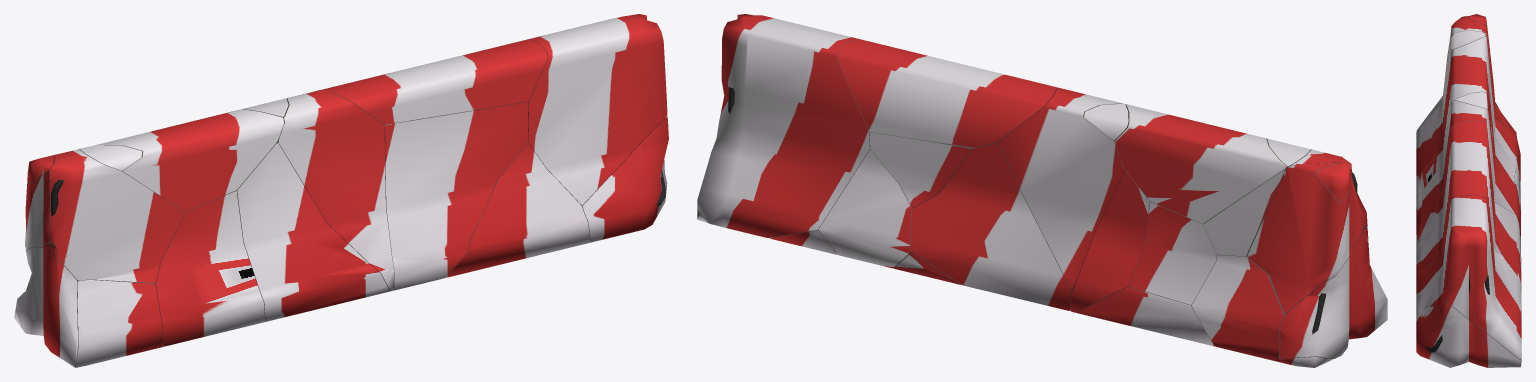
File: damaged_barrier_broken.fbx
The picture shows the model from 3 angles, left to right: view 1: azimuth 30°, elevation 25°; view 2: azimuth 150°, elevation 25°; view 3: azimuth 270°, elevation 25°; orthographic projection. The views are drawn at different scales.
Parts seen in each view (by area): view 1: LowPolyBarrierDamaged2_LowPolyBarrier1Plain.001_cell.003, LowPolyBarrierDamaged2_LowPolyBarrier1Plain.001_cell.021, LowPolyBarrierDamaged2_LowPolyBarrier1Plain.001_cell.018, LowPolyBarrierDamaged2_LowPolyBarrier1Plain.001_cell.007, LowPolyBarrierDamaged2_LowPolyBarrier1Plain.001_cell.019, LowPolyBarrierDamaged2_LowPolyBarrier1Plain.001_cell.014, LowPolyBarrierDamaged2_LowPolyBarrier1Plain.001_cell.032, LowPolyBarrierDamaged2_LowPolyBarrier1Plain.001_cell.024, LowPolyBarrierDamaged2_LowPolyBarrier1Plain.001_cell.004, LowPolyBarrierDamaged2_LowPolyBarrier1Plain.001_cell.002, LowPolyBarrierDamaged2_LowPolyBarrier1Plain.001_cell.029, LowPolyBarrierDamaged2_LowPolyBarrier1Plain.001_cell.023 (+2 smaller); view 2: LowPolyBarrierDamaged2_LowPolyBarrier1Plain.001_cell.003, LowPolyBarrierDamaged2_LowPolyBarrier1Plain.001_cell.026, LowPolyBarrierDamaged2_LowPolyBarrier1Plain.001_cell.032, LowPolyBarrierDamaged2_LowPolyBarrier1Plain.001_cell.007, LowPolyBarrierDamaged2_LowPolyBarrier1Plain.001_cell.024, LowPolyBarrierDamaged2_LowPolyBarrier1Plain.001_cell.016, LowPolyBarrierDamaged2_LowPolyBarrier1Plain.001_cell.023, LowPolyBarrierDamaged2_LowPolyBarrier1Plain.001_cell.004, LowPolyBarrierDamaged2_LowPolyBarrier1Plain.001_cell.002, LowPolyBarrierDamaged2_LowPolyBarrier1Plain.001_cell.018, LowPolyBarrierDamaged2_LowPolyBarrier1Plain.001_cell.014, LowPolyBarrierDamaged2_LowPolyBarrier1Plain.001_cell.021 (+7 smaller); view 3: LowPolyBarrierDamaged2_LowPolyBarrier1Plain.001_cell.003, LowPolyBarrierDamaged2_LowPolyBarrier1Plain.001_cell.029, LowPolyBarrierDamaged2_LowPolyBarrier1Plain.001_cell.032, LowPolyBarrierDamaged2_LowPolyBarrier1Plain.001_cell.024, LowPolyBarrierDamaged2_LowPolyBarrier1Plain.001_cell.007, LowPolyBarrierDamaged2_LowPolyBarrier1Plain.001_cell.018, LowPolyBarrierDamaged2_LowPolyBarrier1Plain.001_cell.004, LowPolyBarrierDamaged2_LowPolyBarrier1Plain.001_cell.014, LowPolyBarrierDamaged2_LowPolyBarrier1Plain.001_cell.021, LowPolyBarrierDamaged2_LowPolyBarrier1Plain.001_cell.002, LowPolyBarrierDamaged2_LowPolyBarrier1Plain.001_cell.026, LowPolyBarrierDamaged2_LowPolyBarrier1Plain.001_cell.019 (+7 smaller).
Boxes of the visible parts, x1,y1,x2,y2 form: LowPolyBarrierDamaged2_LowPolyBarrier1Plain.001_cell.003: (501,14,667,205); LowPolyBarrierDamaged2_LowPolyBarrier1Plain.001_cell.021: (384,102,528,290); LowPolyBarrierDamaged2_LowPolyBarrier1Plain.001_cell.018: (236,142,389,321); LowPolyBarrierDamaged2_LowPolyBarrier1Plain.001_cell.007: (276,89,394,291); LowPolyBarrierDamaged2_LowPolyBarrier1Plain.001_cell.019: (48,149,184,282); LowPolyBarrierDamaged2_LowPolyBarrier1Plain.001_cell.014: (155,190,265,346); LowPolyBarrierDamaged2_LowPolyBarrier1Plain.001_cell.032: (323,39,547,124); LowPolyBarrierDamaged2_LowPolyBarrier1Plain.001_cell.024: (95,109,283,211); LowPolyBarrierDamaged2_LowPolyBarrier1Plain.001_cell.004: (445,142,590,277); LowPolyBarrierDamaged2_LowPolyBarrier1Plain.001_cell.002: (75,279,163,367); LowPolyBarrierDamaged2_LowPolyBarrier1Plain.001_cell.029: (582,116,668,242); LowPolyBarrierDamaged2_LowPolyBarrier1Plain.001_cell.023: (15,244,77,367); LowPolyBarrierDamaged2_LowPolyBarrier1Plain.001_cell.003: (697,14,870,237); LowPolyBarrierDamaged2_LowPolyBarrier1Plain.001_cell.026: (910,142,1071,310); LowPolyBarrierDamaged2_LowPolyBarrier1Plain.001_cell.032: (836,38,1056,147); LowPolyBarrierDamaged2_LowPolyBarrier1Plain.001_cell.007: (997,87,1124,289); LowPolyBarrierDamaged2_LowPolyBarrier1Plain.001_cell.024: (1114,104,1287,223); LowPolyBarrierDamaged2_LowPolyBarrier1Plain.001_cell.016: (1247,162,1363,313); LowPolyBarrierDamaged2_LowPolyBarrier1Plain.001_cell.023: (1279,232,1387,359); LowPolyBarrierDamaged2_LowPolyBarrier1Plain.001_cell.004: (818,149,912,268); LowPolyBarrierDamaged2_LowPolyBarrier1Plain.001_cell.002: (1192,255,1387,361); LowPolyBarrierDamaged2_LowPolyBarrier1Plain.001_cell.018: (1070,170,1150,312); LowPolyBarrierDamaged2_LowPolyBarrier1Plain.001_cell.014: (1129,201,1218,305); LowPolyBarrierDamaged2_LowPolyBarrier1Plain.001_cell.021: (869,132,977,208); LowPolyBarrierDamaged2_LowPolyBarrier1Plain.001_cell.003: (1425,195,1521,361); LowPolyBarrierDamaged2_LowPolyBarrier1Plain.001_cell.029: (1416,301,1521,367); LowPolyBarrierDamaged2_LowPolyBarrier1Plain.001_cell.032: (1448,120,1491,230); LowPolyBarrierDamaged2_LowPolyBarrier1Plain.001_cell.024: (1446,36,1492,130); LowPolyBarrierDamaged2_LowPolyBarrier1Plain.001_cell.007: (1416,100,1518,245); LowPolyBarrierDamaged2_LowPolyBarrier1Plain.001_cell.018: (1416,113,1520,240); LowPolyBarrierDamaged2_LowPolyBarrier1Plain.001_cell.004: (1416,244,1521,316); LowPolyBarrierDamaged2_LowPolyBarrier1Plain.001_cell.014: (1416,111,1515,198); LowPolyBarrierDamaged2_LowPolyBarrier1Plain.001_cell.021: (1416,157,1503,272); LowPolyBarrierDamaged2_LowPolyBarrier1Plain.001_cell.002: (1416,102,1520,180); LowPolyBarrierDamaged2_LowPolyBarrier1Plain.001_cell.026: (1490,173,1521,275); LowPolyBarrierDamaged2_LowPolyBarrier1Plain.001_cell.019: (1435,16,1494,138).
Bounding box in the file's own units: 300 × 82.59 × 59.99.
